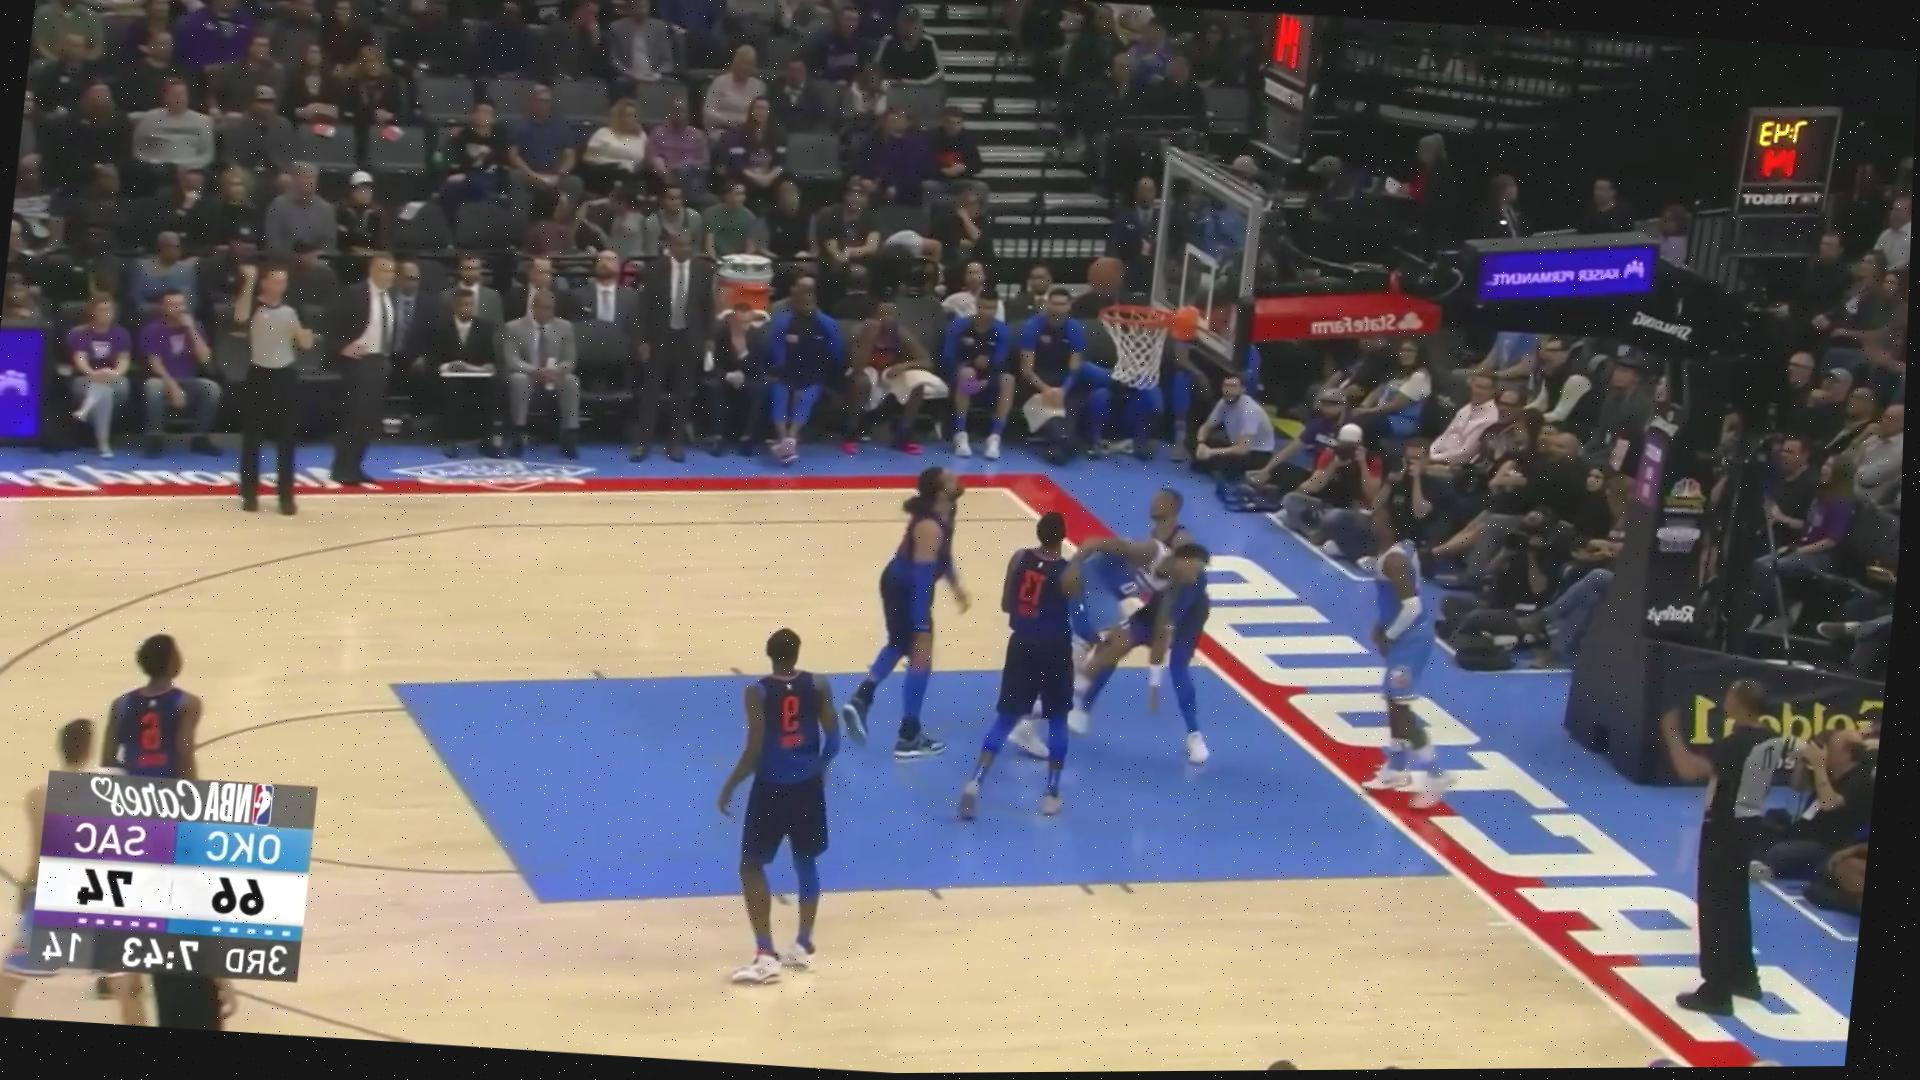foul: (945, 455, 1278, 827)
